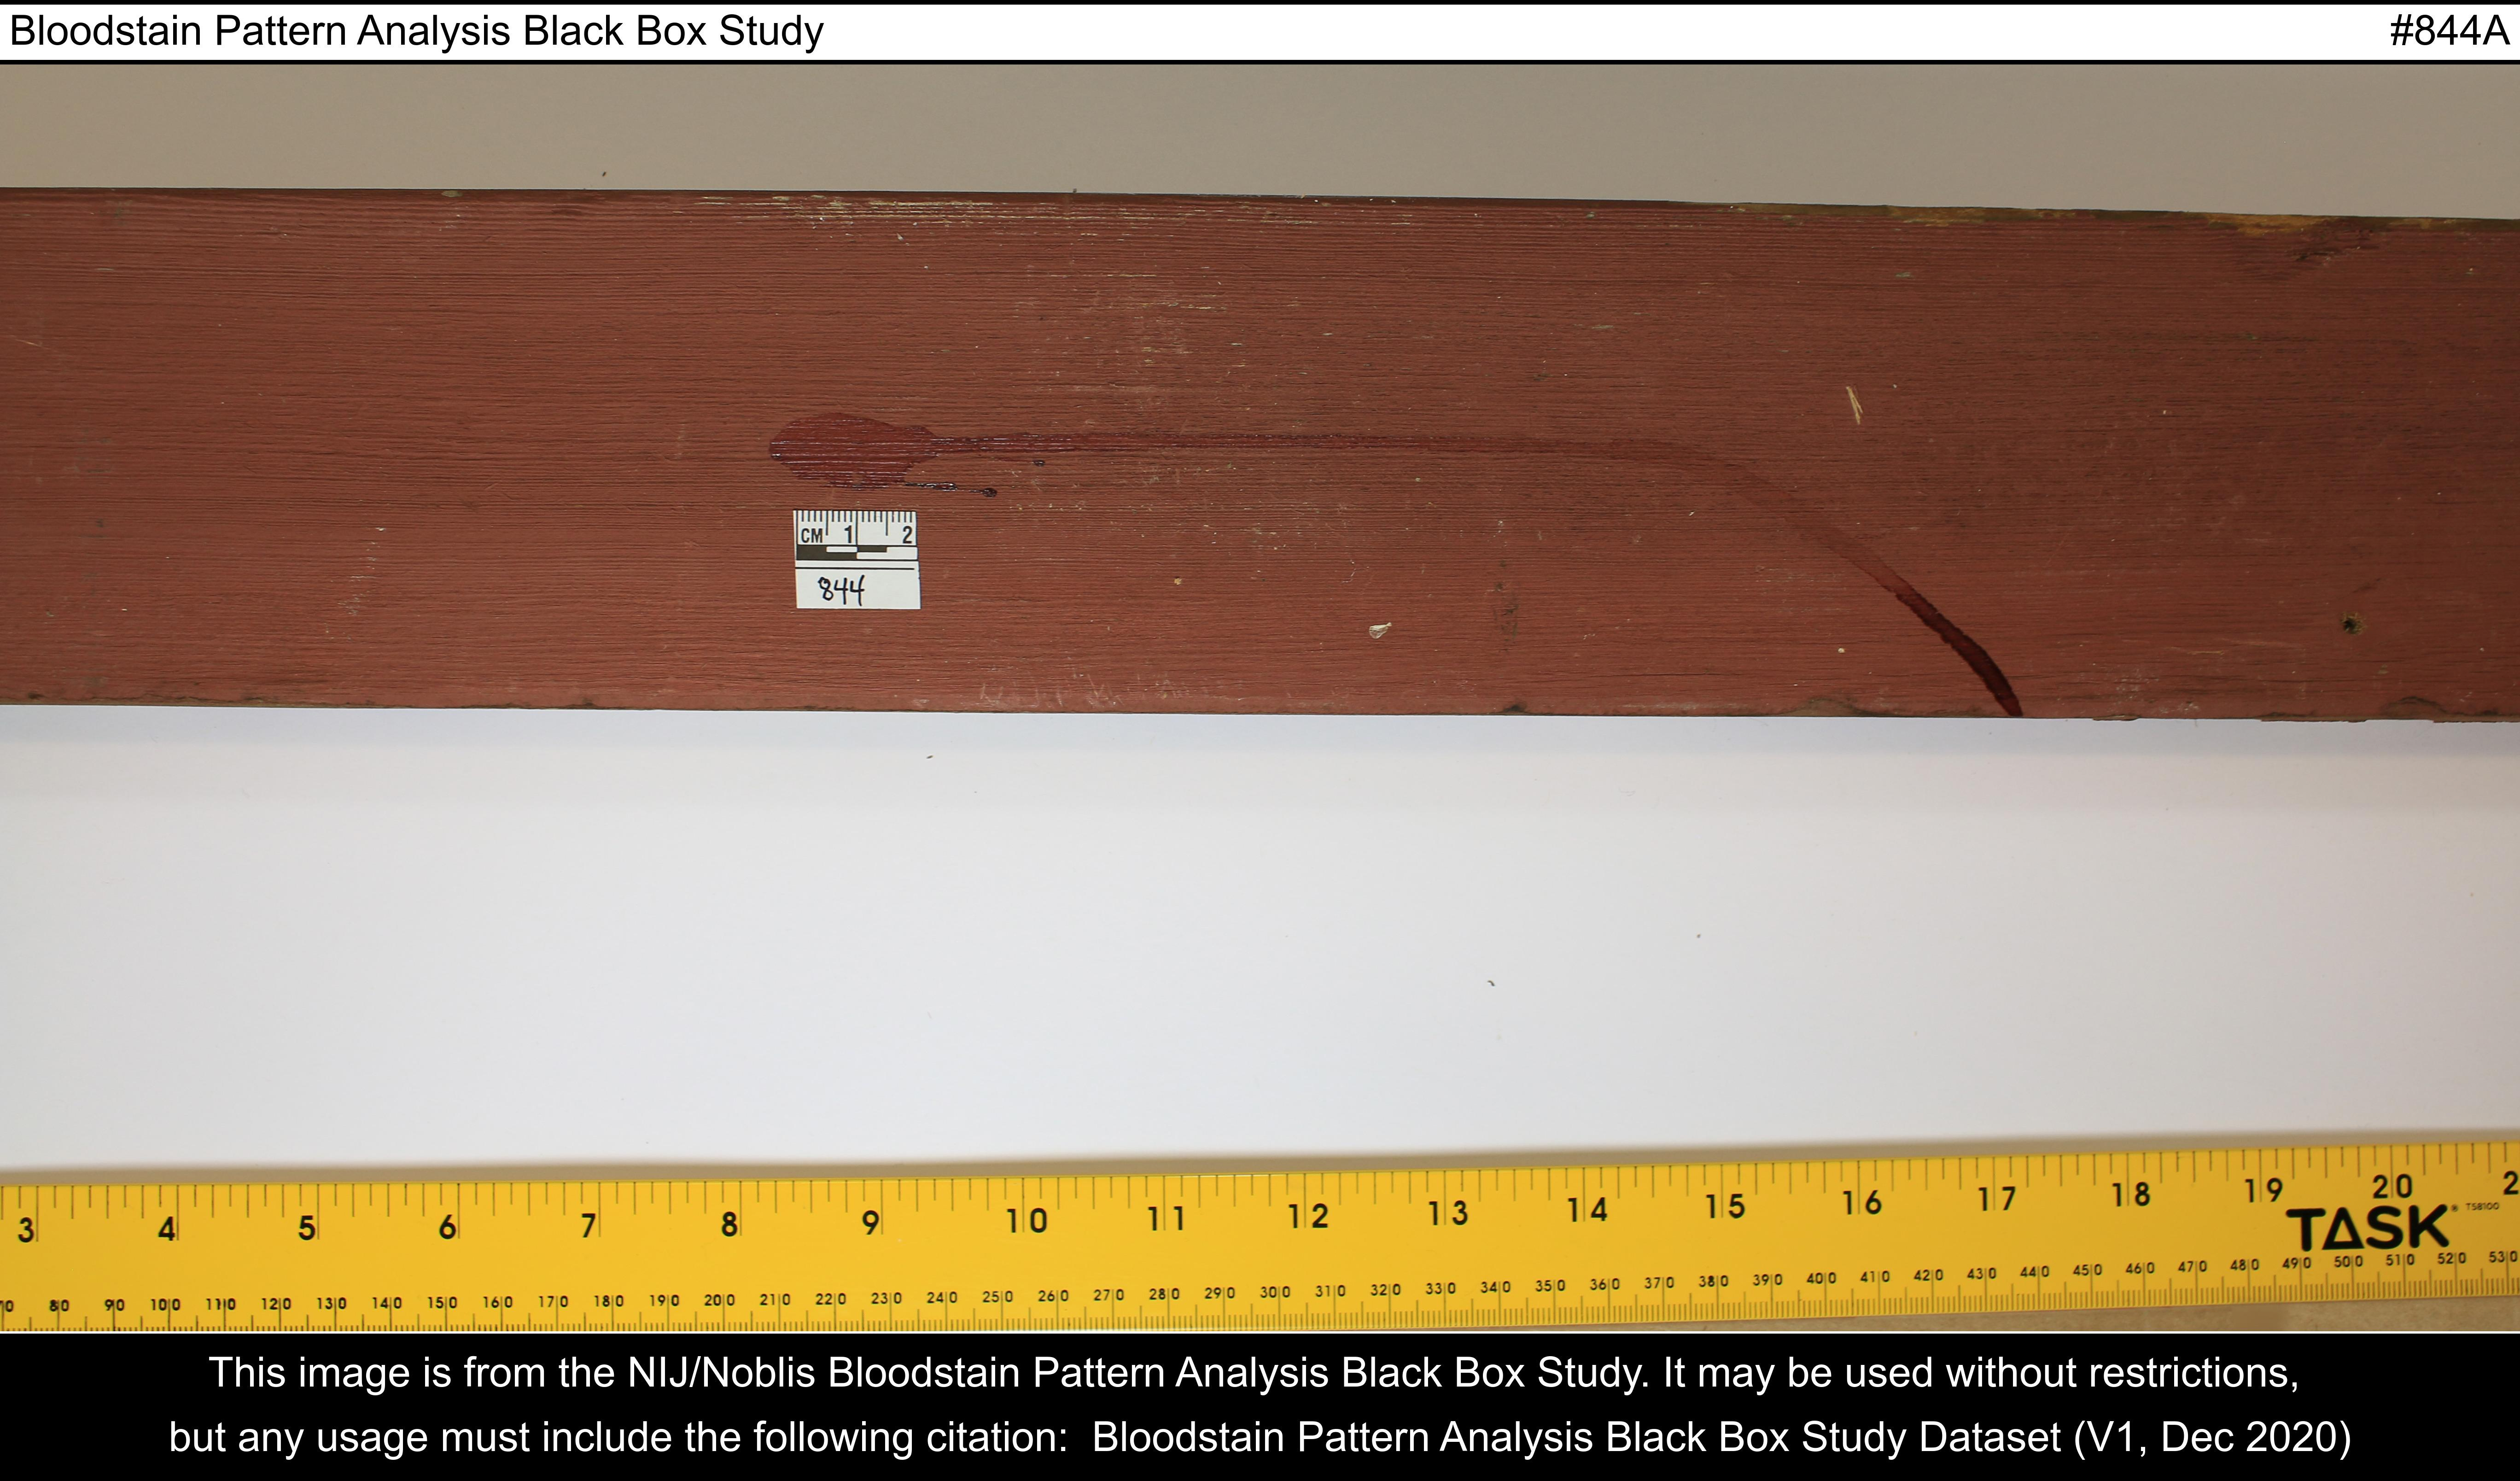Transfer: (686, 386, 2072, 712)
